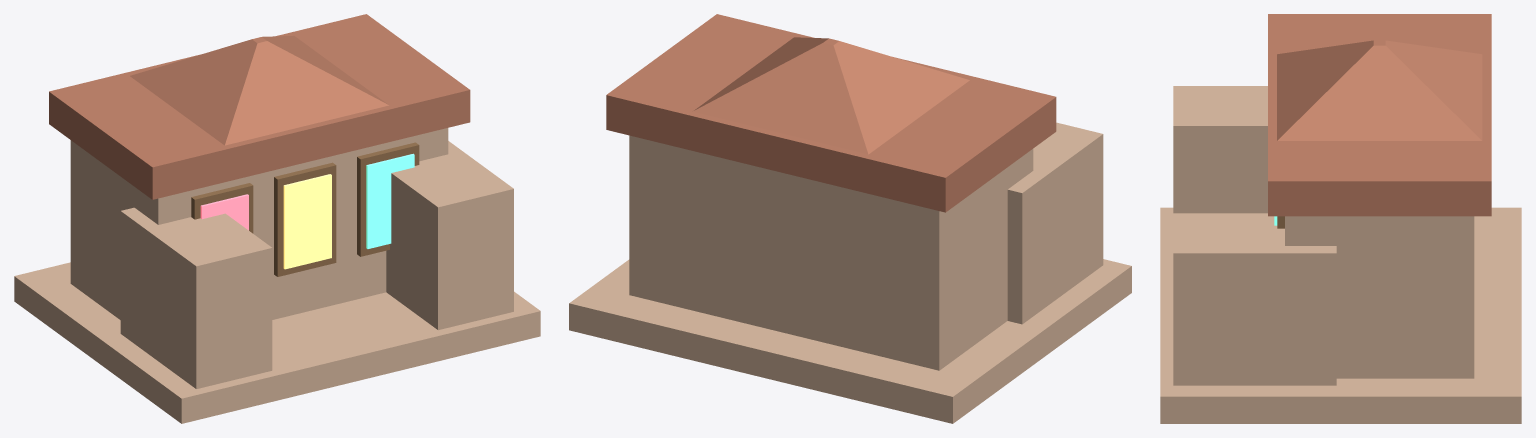
File: city_sheki.glb
The picture shows the model from 3 angles, left to right: view 1: azimuth 30°, elevation 25°; view 2: azimuth 150°, elevation 25°; view 3: azimuth 270°, elevation 25°; orthographic projection. The views are drawn at different scales.
Visible parts, largest first — view 1: RoofMain, KarvansarayBase, WingL, MainHall, WingR, RoofRidge, ShebekeGlass_1, ShebekeGlass_2, ShebekeFrame_1, ShebekeFrame_2, ShebekeFrame_0, ShebekeGlass_0; view 2: MainHall, RoofMain, KarvansarayBase, RoofRidge, WingL; view 3: WingR, RoofMain, KarvansarayBase, MainHall, RoofRidge, WingL.
Part boxes in pixels (box(x1,y1,x2,y2)): RoofMain: box(49, 14, 470, 199); KarvansarayBase: box(14, 262, 540, 423); WingL: box(120, 207, 272, 388); MainHall: box(70, 128, 448, 319); WingR: box(386, 141, 513, 330); RoofRidge: box(130, 35, 388, 145); ShebekeGlass_1: box(283, 174, 331, 269); ShebekeGlass_2: box(366, 153, 414, 248); ShebekeFrame_1: box(274, 162, 336, 276); ShebekeFrame_2: box(357, 142, 419, 256); ShebekeFrame_0: box(191, 183, 253, 233); ShebekeGlass_0: box(200, 194, 248, 230); MainHall: box(629, 135, 1033, 370); RoofMain: box(606, 14, 1056, 212); KarvansarayBase: box(569, 259, 1131, 423); RoofRidge: box(693, 37, 969, 154); WingL: box(1007, 122, 1103, 324); WingR: box(1173, 213, 1336, 385); RoofMain: box(1268, 14, 1491, 216); KarvansarayBase: box(1160, 207, 1521, 423); MainHall: box(1285, 216, 1474, 378); RoofRidge: box(1277, 40, 1482, 140); WingL: box(1173, 86, 1267, 213).
Size of the model in its own units: 5.2 by 3.67 by 4.2.
